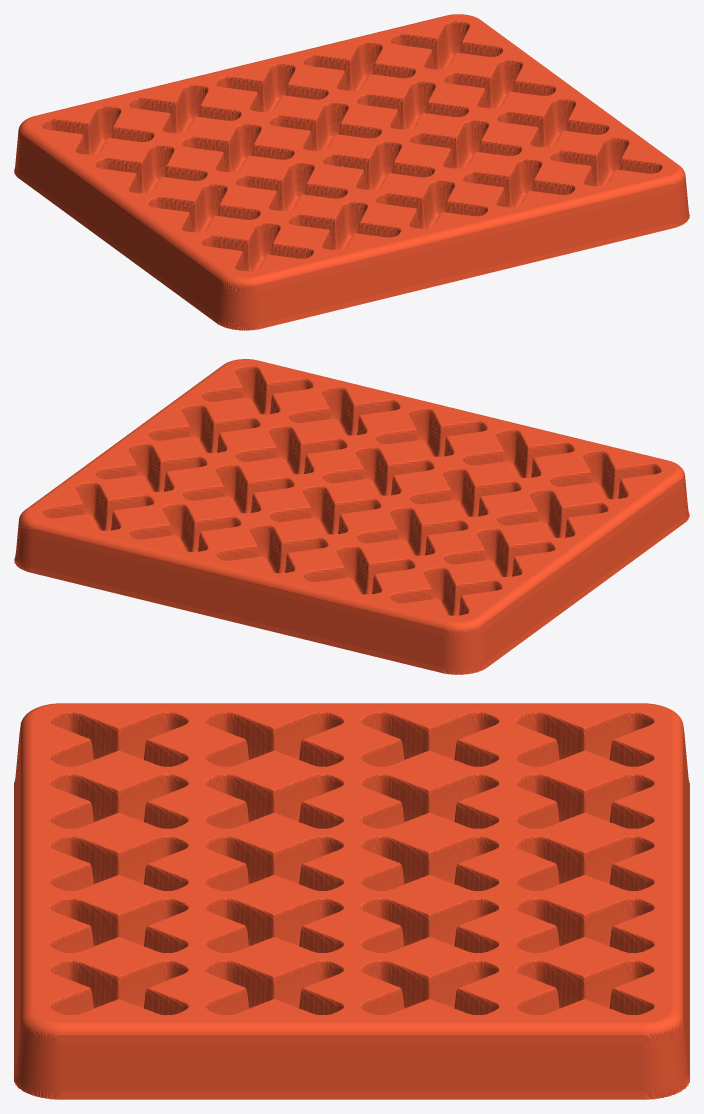
File: mold.glb
3 renders of one model, top to bottom at view 1: azimuth 30°, elevation 25°; view 2: azimuth 150°, elevation 25°; view 3: azimuth 270°, elevation 25°, orthographic. The views are drawn at different scales.
Visible parts, largest first — view 1: geometry_0; view 2: geometry_0; view 3: geometry_0.
Part boxes in pixels (x1,y1,x2,y2): geometry_0: [14, 14, 689, 330]; geometry_0: [14, 359, 689, 674]; geometry_0: [14, 703, 689, 1099].
Size of the model in its own units: 0.1493 by 0.0145 by 0.1278.
